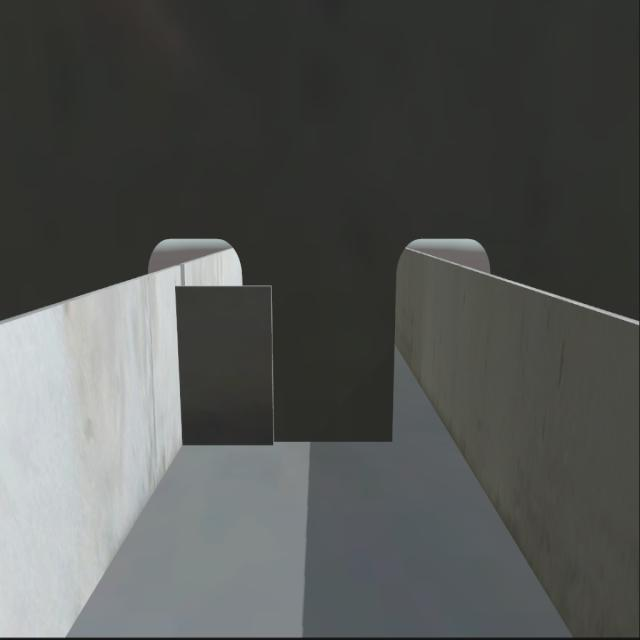fillet_yong_jeop_jang: (172, 429, 399, 456)
longi_yong_jeop_jang: (172, 282, 188, 448)
plate_CP01: (178, 281, 273, 448)
